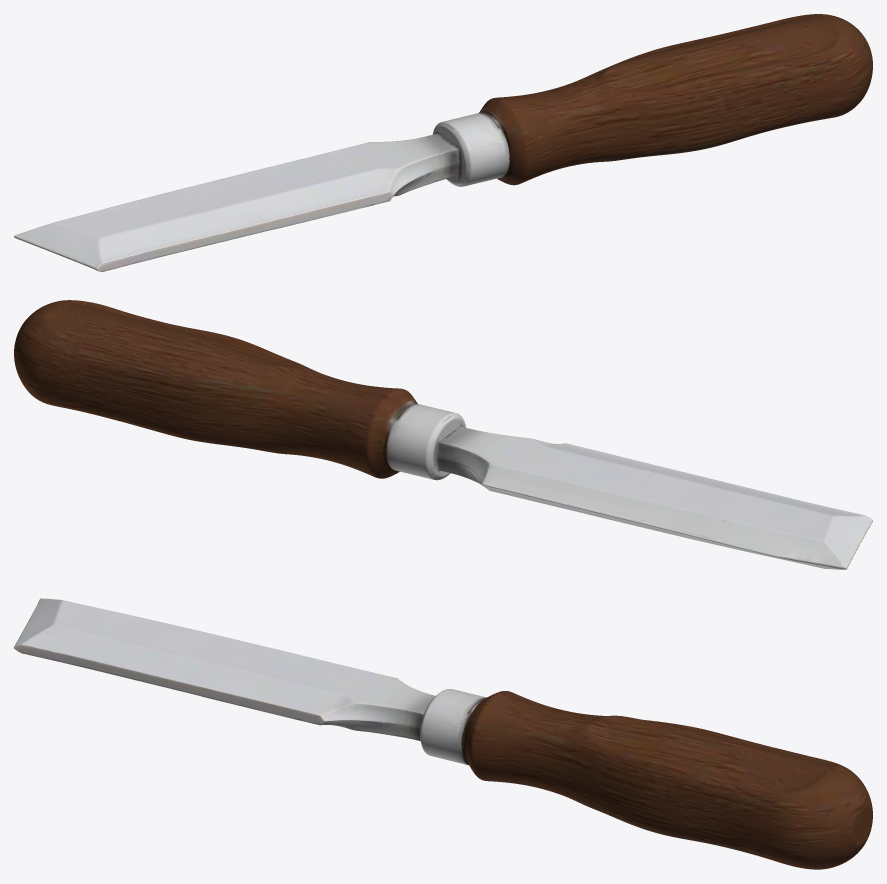
File: tool-kedao.glb
3 views of the same model, one above another, from view 1: azimuth 30°, elevation 25°; view 2: azimuth 150°, elevation 25°; view 3: azimuth 330°, elevation 25° (orthographic). The views are drawn at different scales.
Parts seen in each view (by area): view 1: node_0; view 2: node_0; view 3: node_0.
Boxes of the visible parts, x1,y1,x2,y2 form: node_0: (14, 14, 872, 271); node_0: (14, 300, 872, 569); node_0: (14, 598, 872, 869).
Bounding box in the file's own units: 1.19 × 0.1227 × 0.1505.
1 material, 1 textured.
